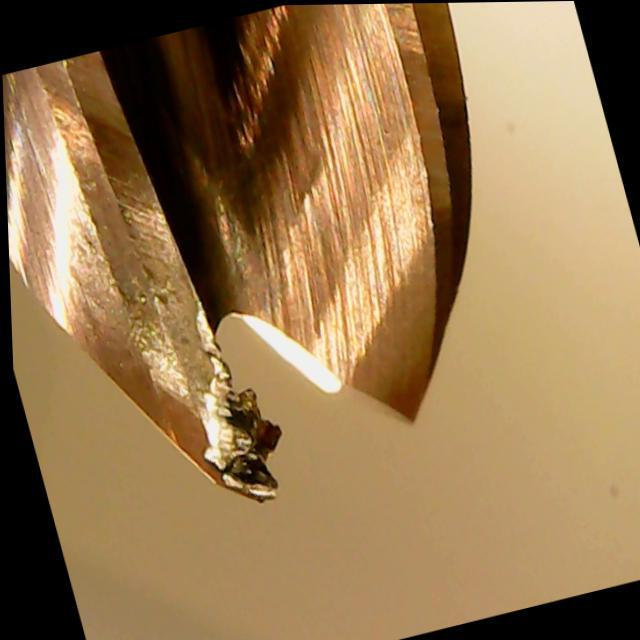Tool-wear-class-2: (84, 201, 307, 532)
